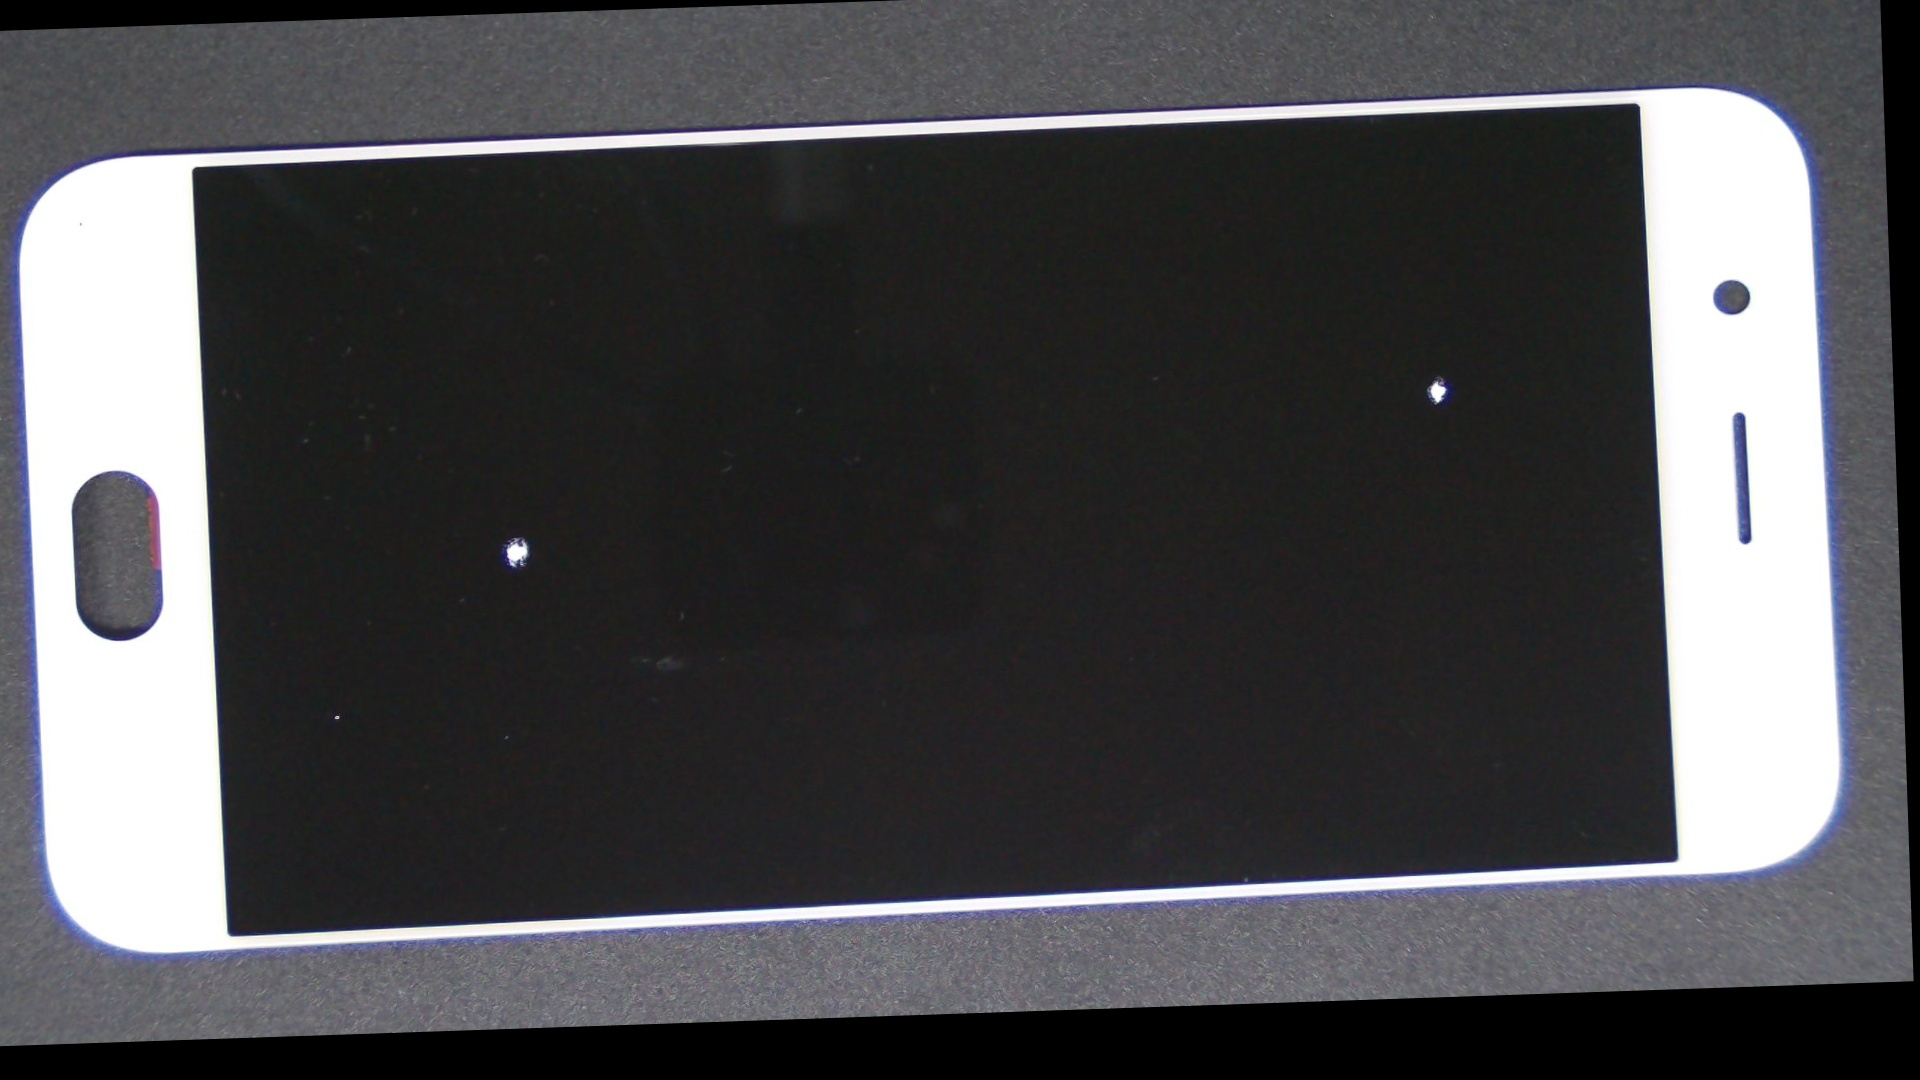oil: (692, 162, 1899, 597), (231, 265, 803, 807)
